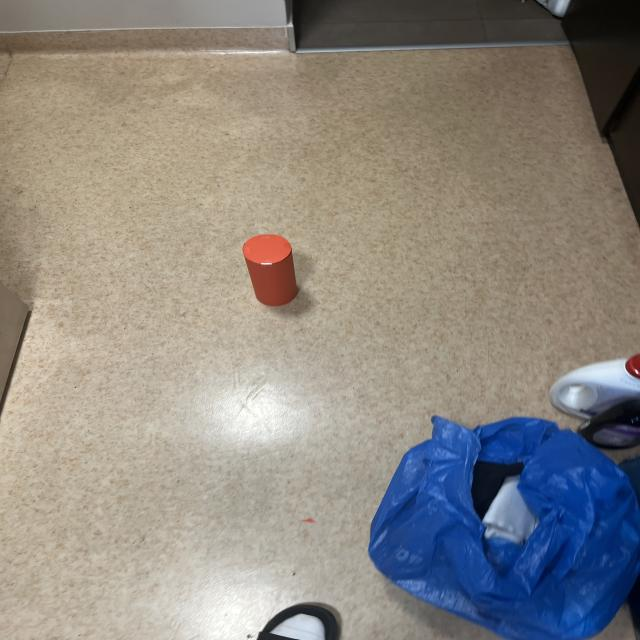przeszkoda: (243, 234, 298, 306)
